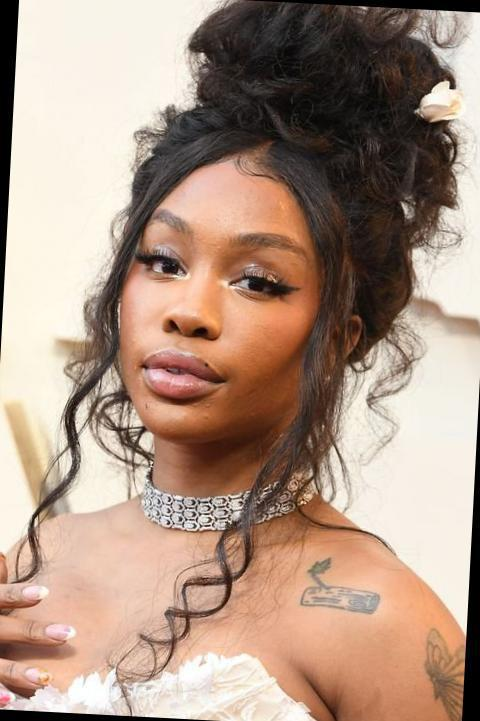Sober: (119, 202, 310, 423)
